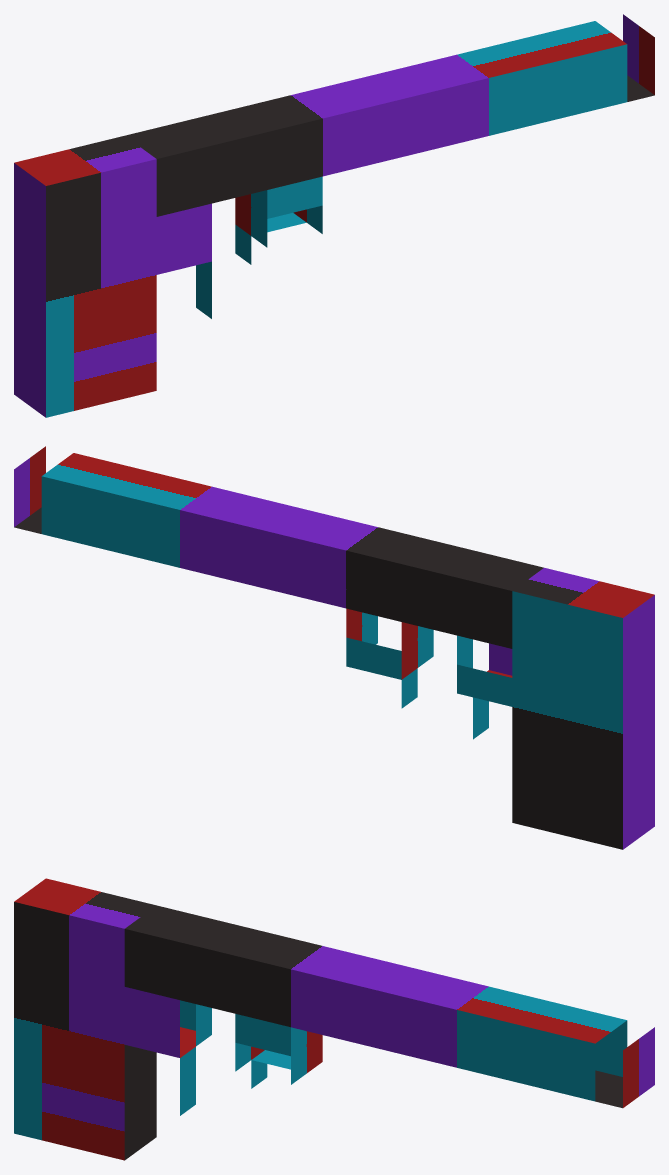
The model's file is Pistol.obj.
3 views of the same model, one above another, from view 1: azimuth 30°, elevation 25°; view 2: azimuth 150°, elevation 25°; view 3: azimuth 330°, elevation 25° (orthographic).
Visible parts, largest first — view 1: Pistol; view 2: Pistol; view 3: Pistol.
Part boxes in pixels (x1=…): Pistol: x1=14, y1=14, x2=654, y2=417; Pistol: x1=14, y1=446, x2=654, y2=849; Pistol: x1=14, y1=878, x2=654, y2=1160.
Size of the model in its own units: 0.6875 by 0.25 by 0.0625.
